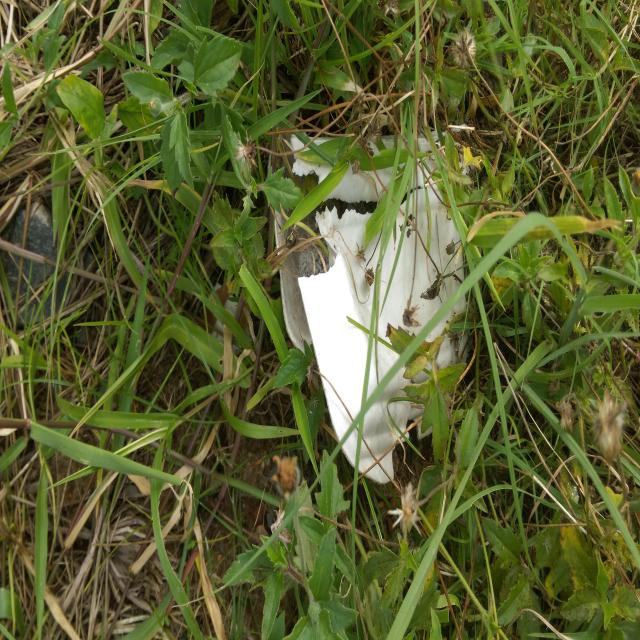litter: (275, 123, 469, 489)
